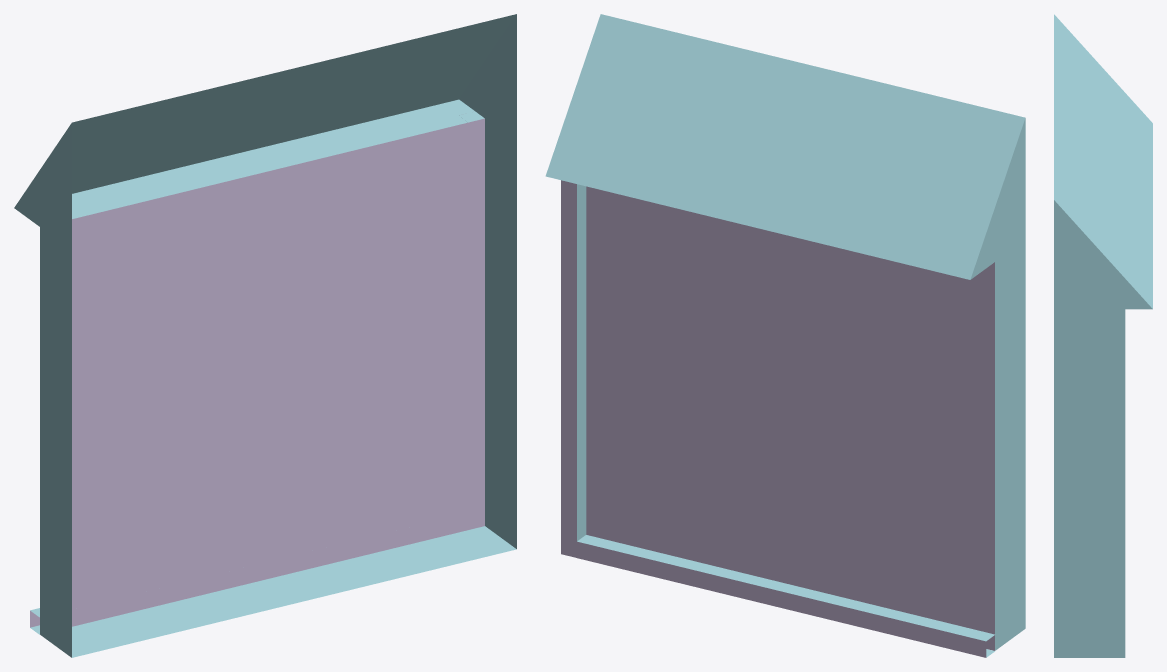
The picture shows the model from 3 angles, left to right: view 1: azimuth 30°, elevation 25°; view 2: azimuth 150°, elevation 25°; view 3: azimuth 270°, elevation 25°; orthographic projection. The views are drawn at different scales.
Parts seen in each view (by area): view 1: Object83; view 2: Object83; view 3: Object83.
Boxes of the visible parts, x1=… form: Object83: x1=14, y1=14, x2=516, y2=657; Object83: x1=545, y1=14, x2=1025, y2=657; Object83: x1=1054, y1=14, x2=1152, y2=657.
Bounding box in the file's own units: 40040 × 45997 × 9004.
